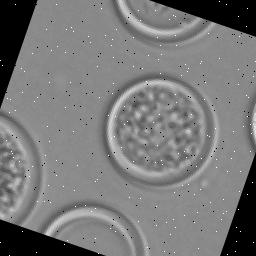picoshell: (103, 72, 219, 189), (39, 201, 150, 256), (0, 111, 43, 225), (113, 0, 217, 46), (249, 95, 256, 151)
